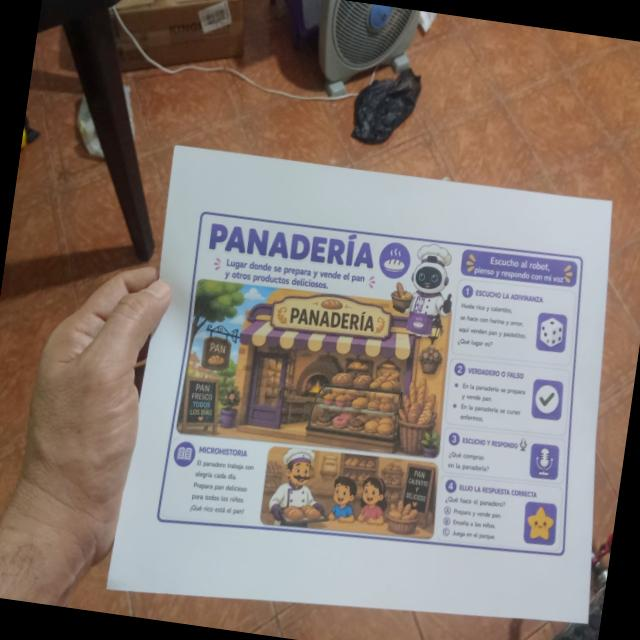panaderia: (150, 199, 610, 587)
